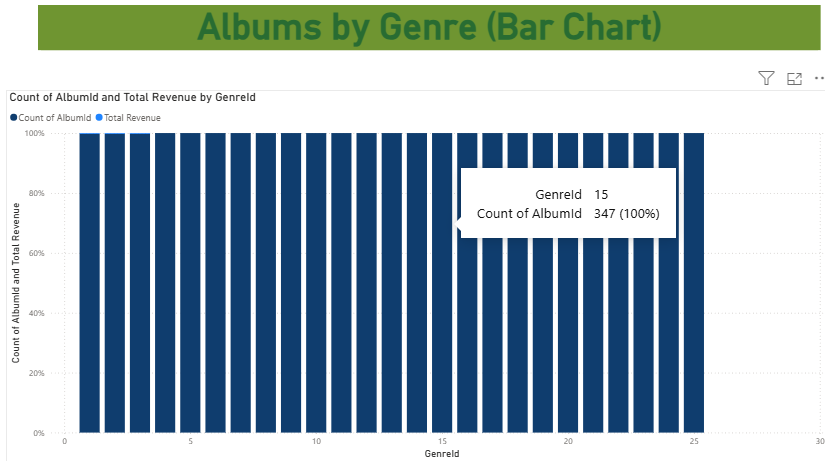

The dashboard page shown, as its layout file describes it:
{"tool":"powerbi","page":{"name":"Page 9","canvas":[1280,720],"ordinal":8},"visuals":[{"type":"hundredPercentStackedColumnChart","fields":{"Category":["itunes_db genre.GenreId"],"Y":["CountNonNull(itunes_db album.AlbumId)","itunes_db album.Total Revenue"]},"box":[53.3,145,1195,536.7],"z":0},{"type":"textbox","title":"Albums by Genre (Bar Chart)","box":[100,23.3,1126.7,88.3],"z":1}]}

Visuals, with their boxes in screenshot pixels (x1, y1, x2, y2), scaled from the page's 1280x720 canvas onto the 825x461 screenshot:
hundredPercentStackedColumnChart - itunes_db genre.GenreId x CountNonNull(itunes_db album.AlbumId): 34,93,805,436
"Albums by Genre (Bar Chart)" textbox: 64,15,791,71
